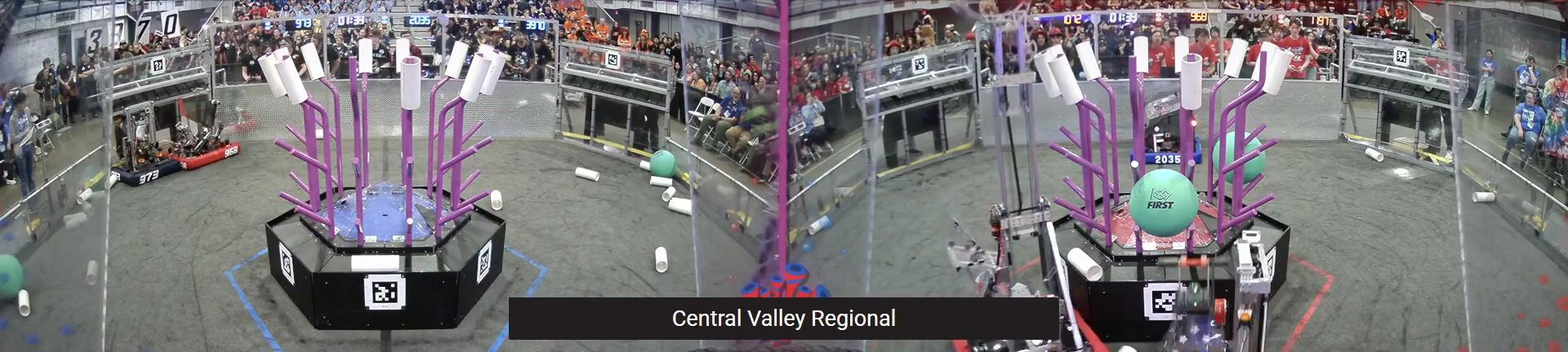reef: (1036, 34, 1295, 338), (257, 37, 509, 331)
robot: (949, 14, 1112, 352), (1147, 249, 1272, 352), (165, 91, 238, 174), (1138, 87, 1204, 166), (112, 112, 172, 190)
